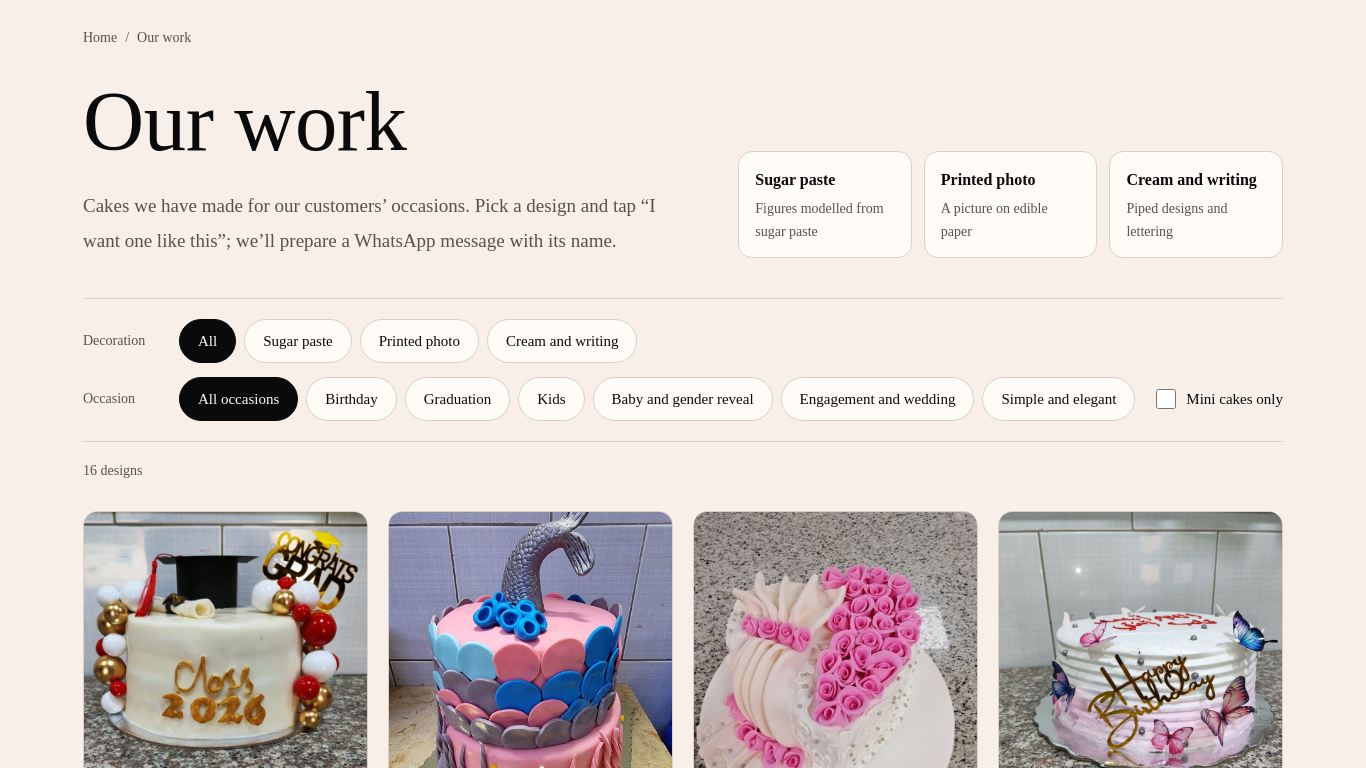
Scenario: GalleryView › filters mini cakes and shows an empty state with a way out
Click the checkbox labelled "Mini cakes only" at (1166, 399), box [1156,389,1176,409]
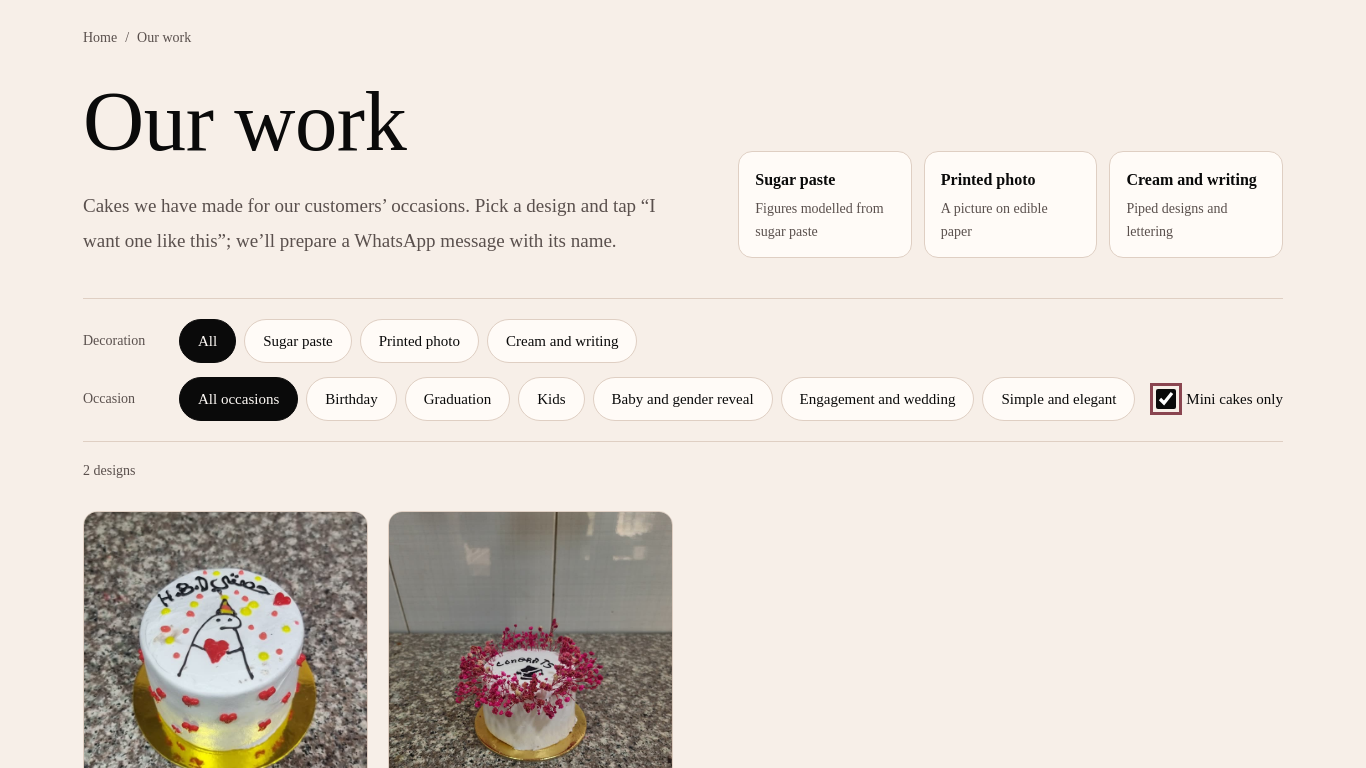
Click the radio button labelled "Printed photo" at (419, 341), box [360,319,479,363]
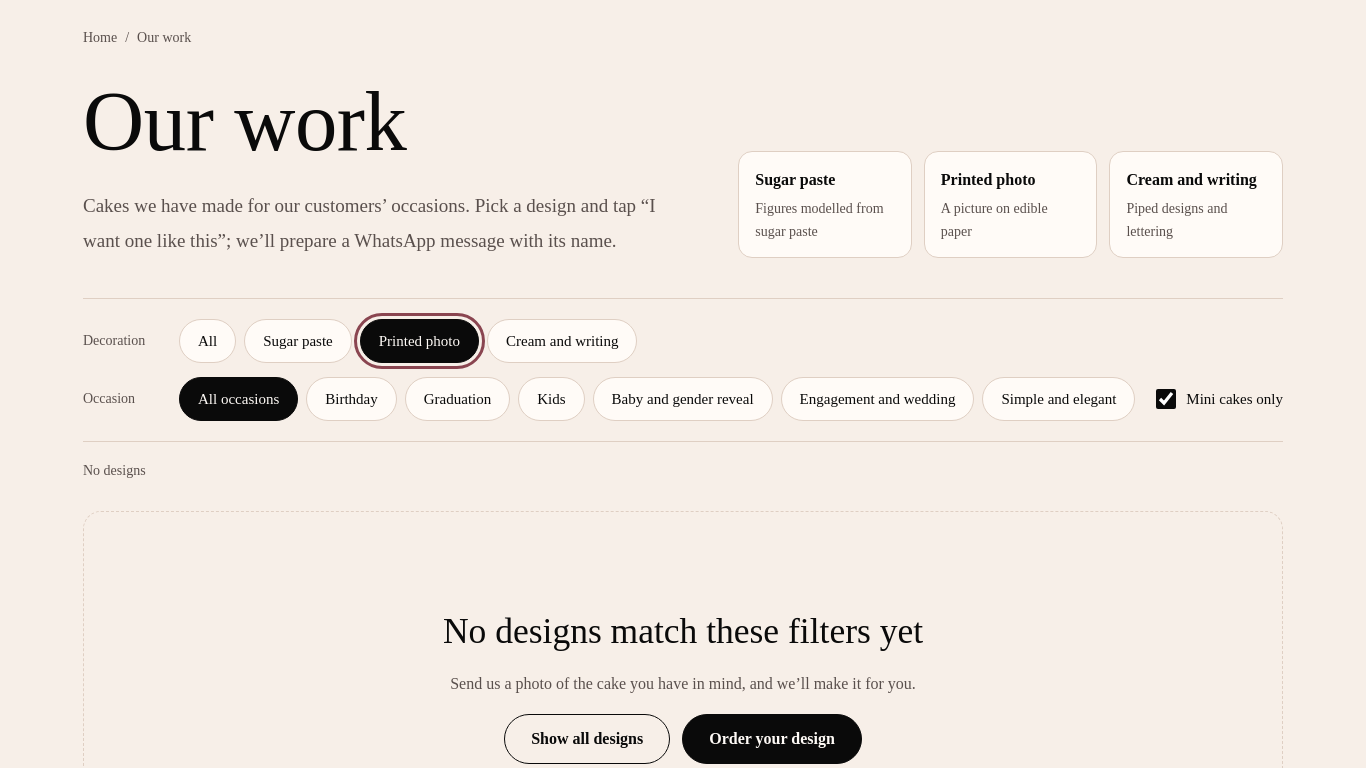
Check: the heading "No designs match these filters yet" is shown, box [443,608,923,654]
